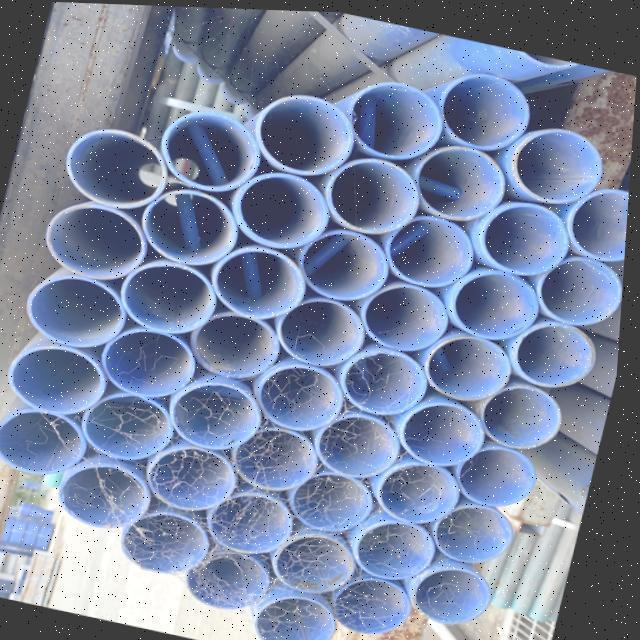pipe: (67, 123, 168, 208), (46, 201, 148, 284), (256, 89, 354, 175), (158, 108, 261, 188), (31, 269, 130, 352), (349, 74, 446, 155), (12, 337, 113, 414), (395, 205, 481, 294), (0, 404, 93, 484), (328, 152, 421, 231), (236, 165, 328, 244), (126, 257, 224, 331), (107, 322, 203, 397), (439, 68, 530, 146), (146, 183, 240, 258), (419, 137, 508, 214), (213, 241, 306, 314), (306, 222, 394, 299), (239, 413, 331, 486), (481, 197, 571, 271), (177, 376, 268, 449), (521, 121, 608, 197), (65, 462, 160, 531), (267, 359, 351, 435), (192, 304, 282, 374), (346, 345, 433, 416), (152, 442, 244, 509), (286, 295, 374, 365), (368, 278, 458, 346), (456, 265, 542, 336), (90, 389, 178, 458), (546, 249, 627, 321), (128, 509, 219, 572), (403, 395, 490, 460), (431, 330, 518, 395), (324, 407, 407, 474), (278, 527, 362, 593), (520, 316, 602, 382), (214, 489, 300, 551), (380, 459, 466, 521), (198, 546, 283, 608), (358, 514, 442, 576), (487, 380, 567, 444), (298, 467, 380, 529), (460, 446, 543, 505), (339, 571, 423, 629), (439, 500, 521, 559), (569, 181, 631, 254), (421, 565, 500, 620), (263, 589, 348, 640)
